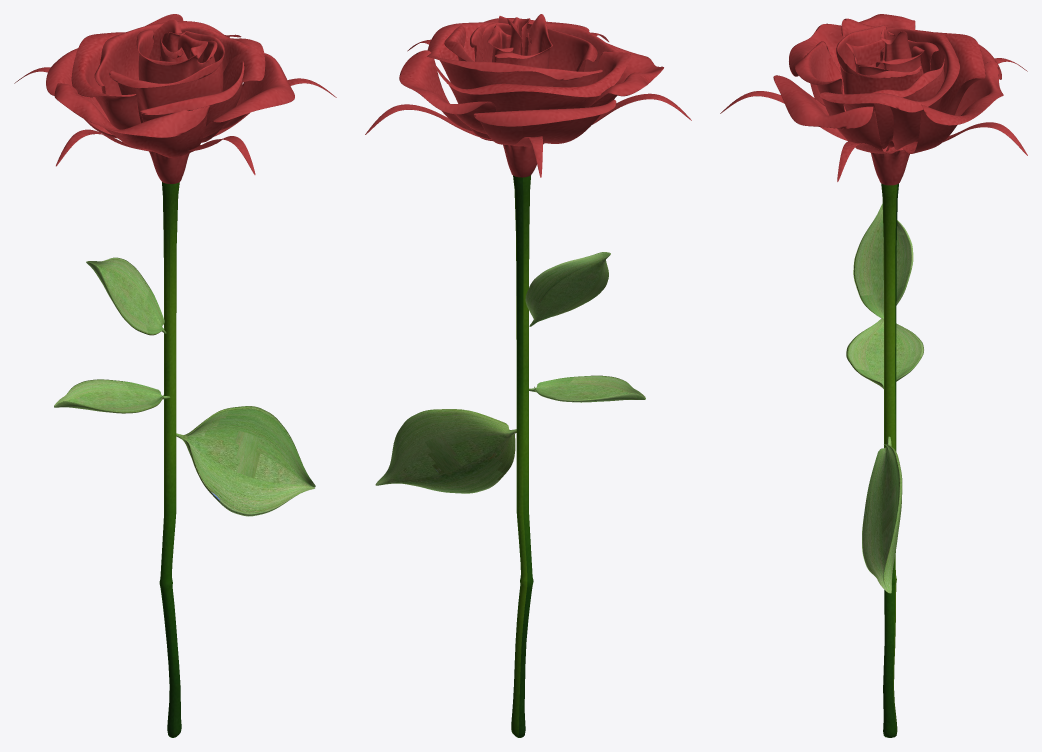
File: rose.glb
The picture shows the model from 3 angles, left to right: view 1: azimuth 30°, elevation 25°; view 2: azimuth 150°, elevation 25°; view 3: azimuth 270°, elevation 25°; orthographic projection.
Visible parts, largest first — view 1: Mesh, pCube1, pCylinder1; view 2: Mesh, pCube1, pCylinder1; view 3: Mesh, pCube1, pCylinder1.
Part boxes in pixels (x1,y1,x2,y2): Mesh: (14,14,336,183); pCube1: (54,257,315,516); pCylinder1: (159,182,181,737); Mesh: (365,14,691,177); pCube1: (375,252,645,493); pCylinder1: (511,175,533,737); Mesh: (720,14,1027,185); pCube1: (846,204,923,593); pCylinder1: (881,183,898,737).
Bounding box in the file's own units: 36.24 × 86.16 × 33.88.
Materials: 3 (3 with a texture image).
